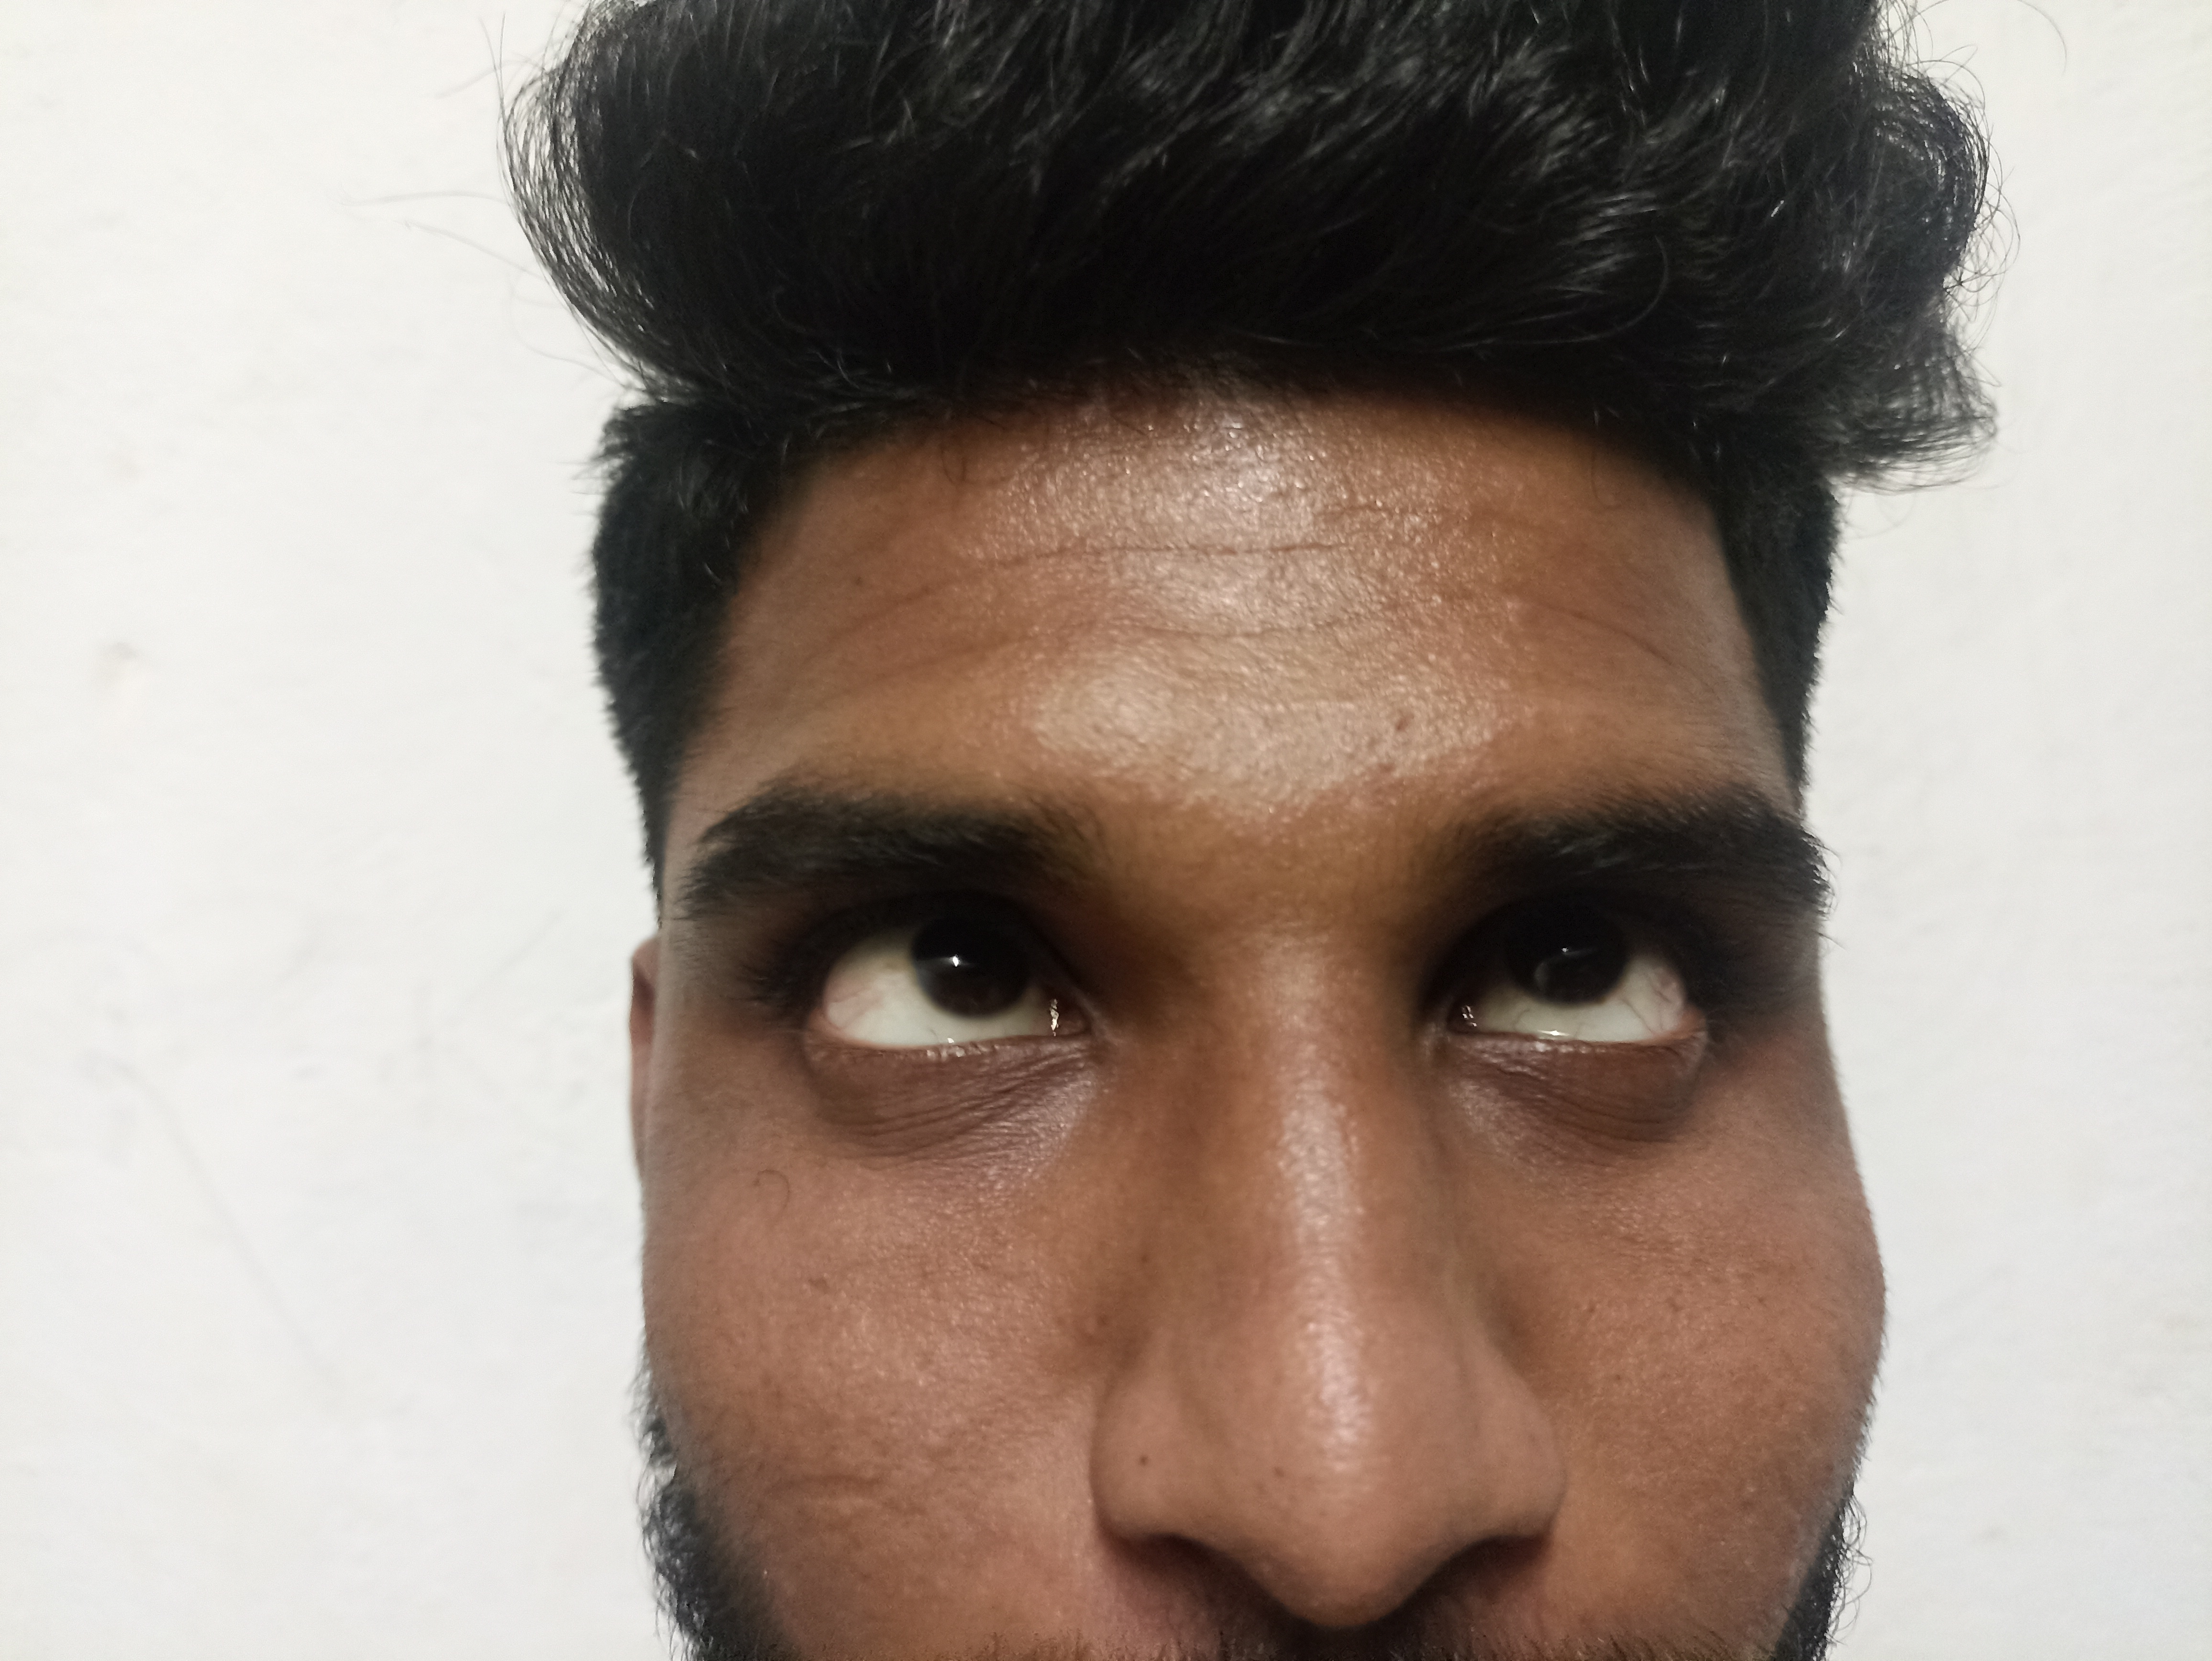EYE UP: (513, 679, 1268, 1293), (1314, 682, 1942, 1317)
